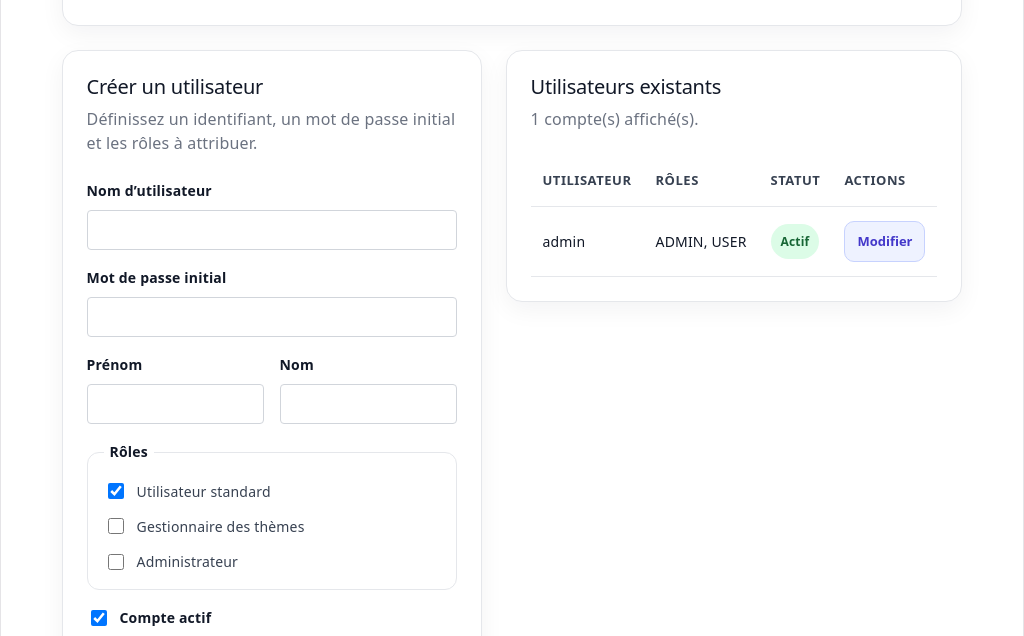
UserAdminPage › closes the edit panel when requested explicitly
This screenshot has width=1024, height=636.
Expected: the cell "admin" is shown, [530,206,644,277]
Click the button named "Modifier admin". click: (885, 242)
box: [844,221,926,262]
(page scrolled)
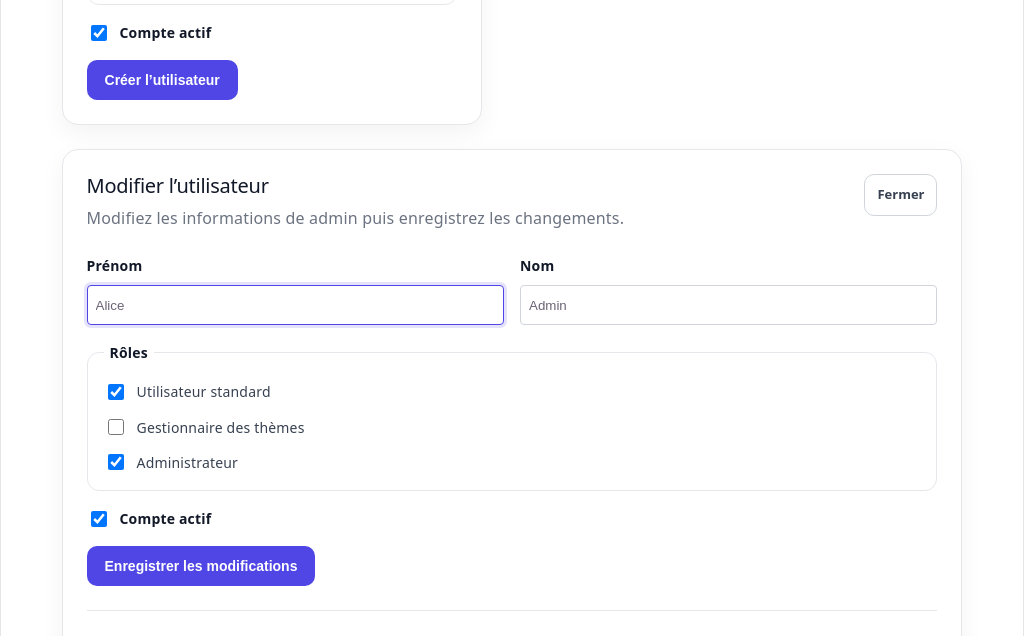
Click the button named "Fermer le panneau d’édition". click: (901, 195)
box: [864,174,938,216]
(page scrolled)
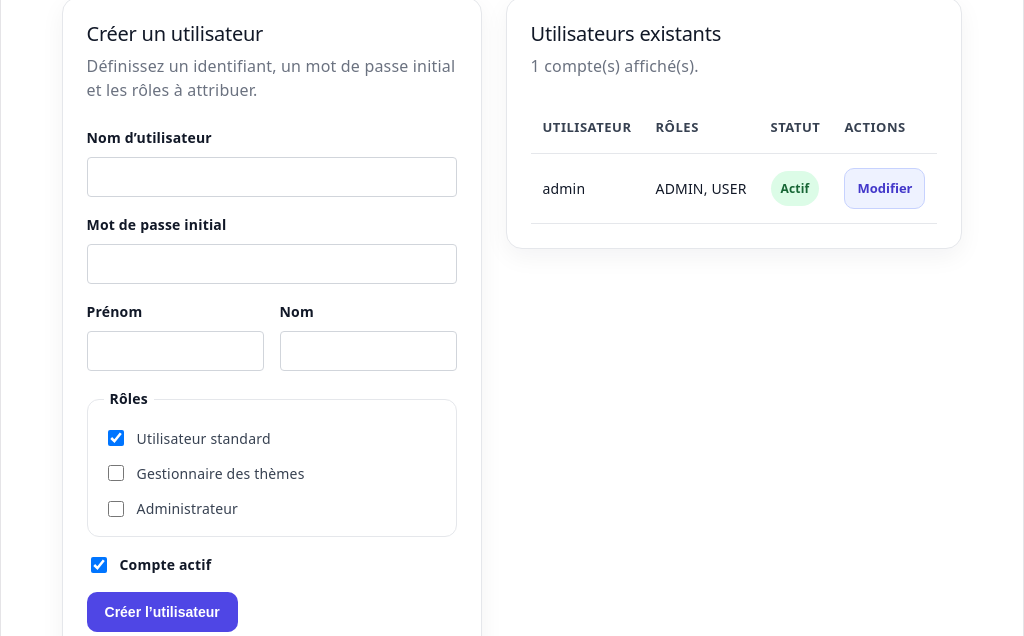
Result: the heading "Modifier l’utilisateur" is gone
